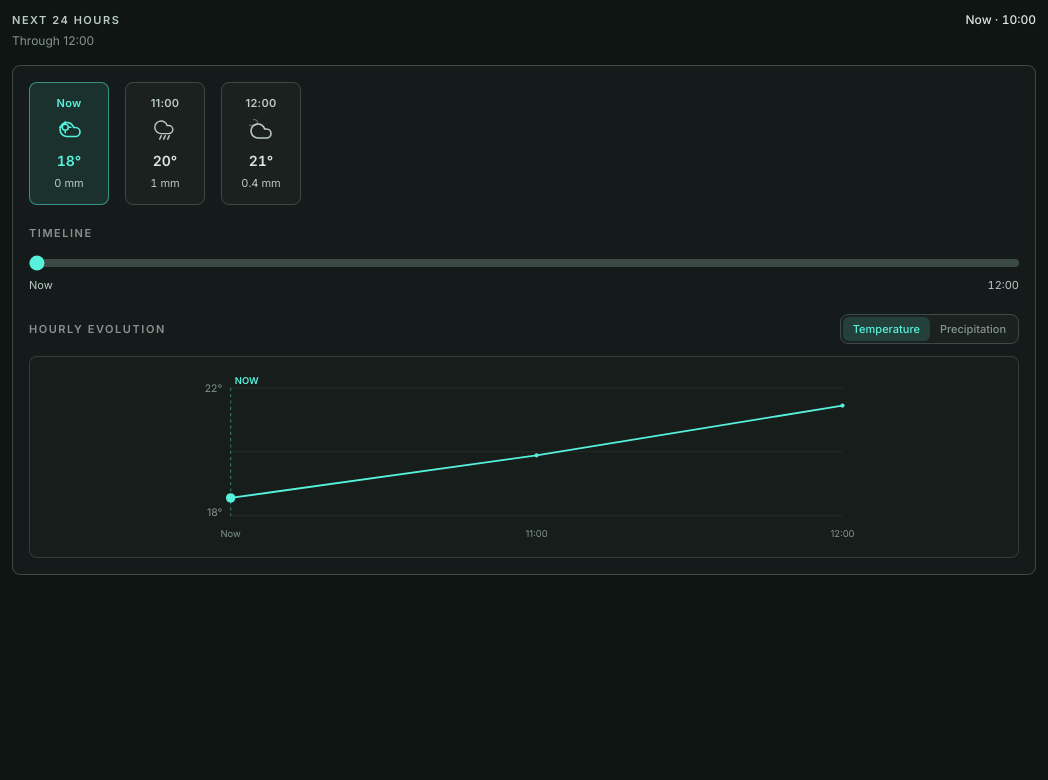
Test: HourlyExploration › labels a future hour as forecast when the strip is selected
Click the button with aria-label "Slight rain" at [165, 143], box [125,82,205,204]
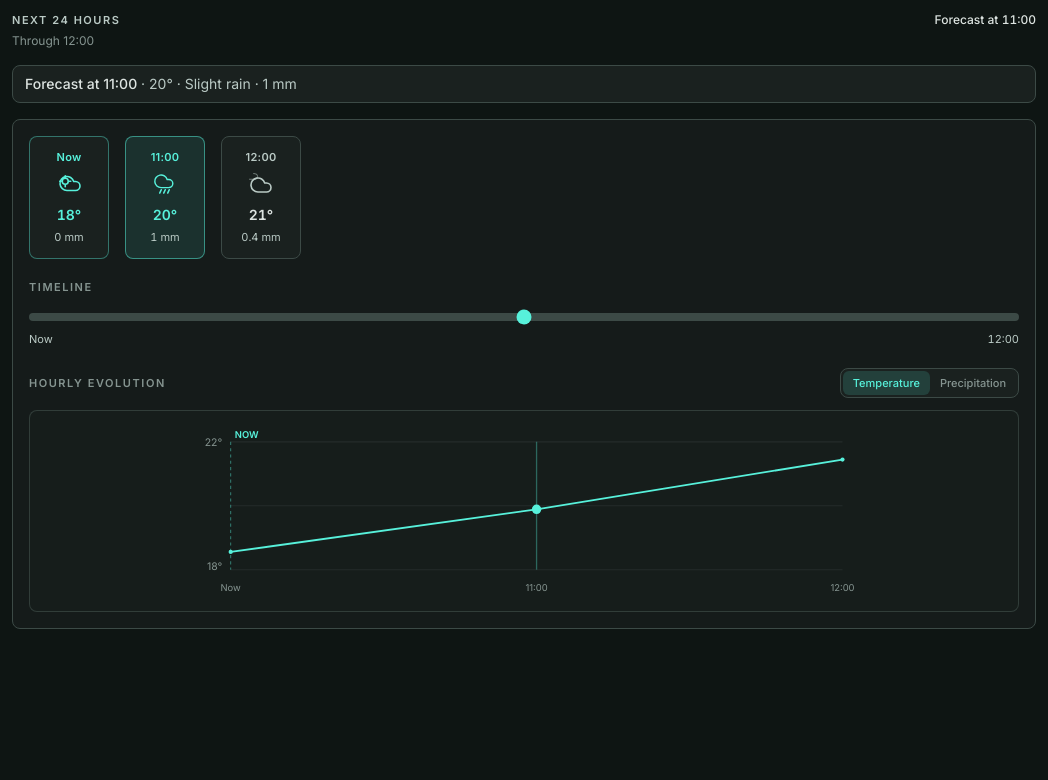
expect the message shows "Forecast at": met, box [25,74,137,92]
expect the message shows "Slight rain": met, box [173,74,251,92]
